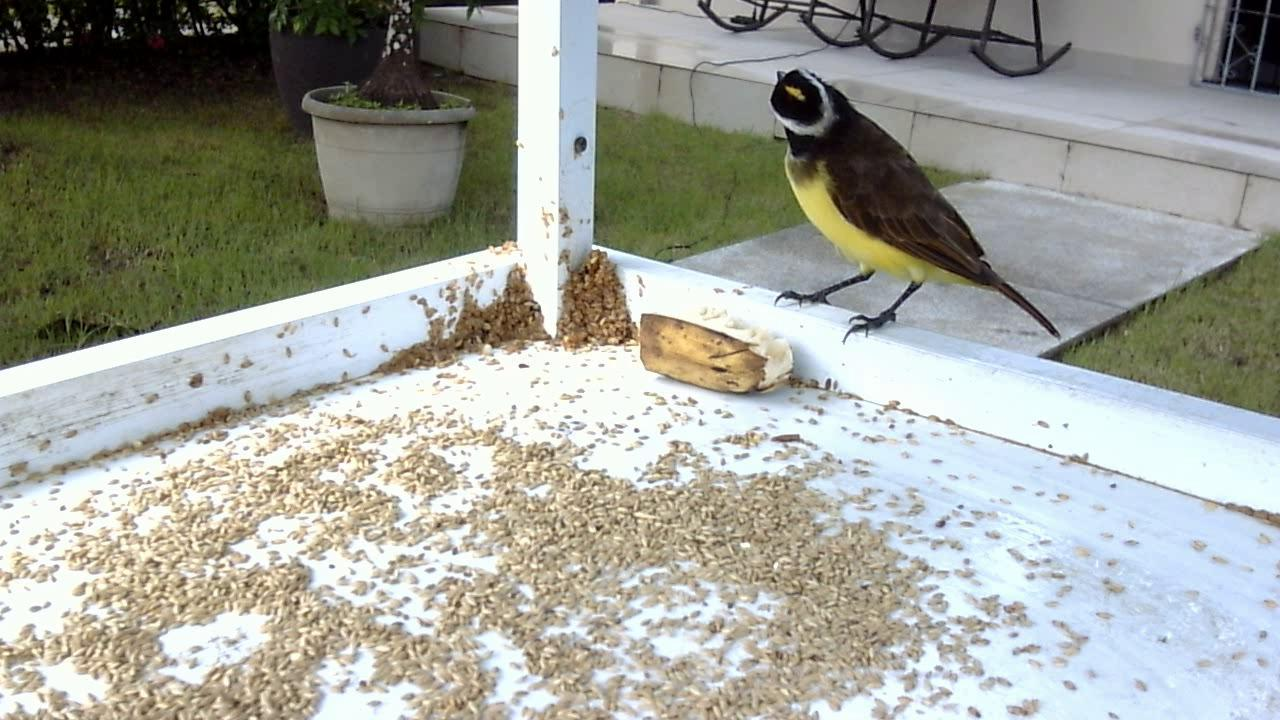bem_te_vi: (736, 63, 1087, 362)
